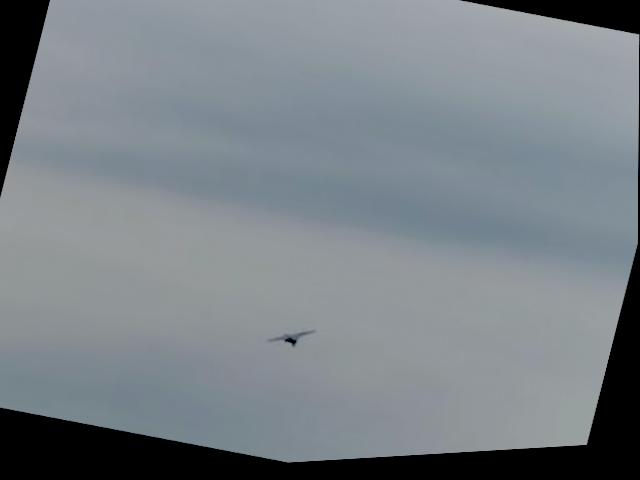uav: (264, 320, 317, 362)
